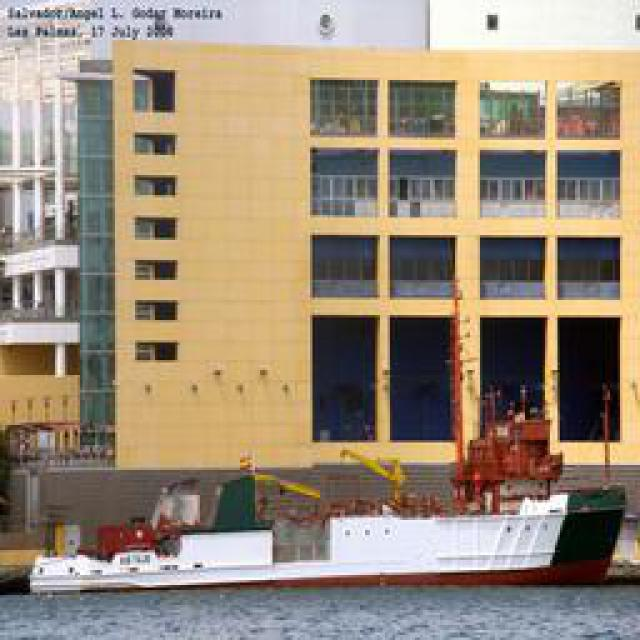Ship: (25, 479, 625, 604)
